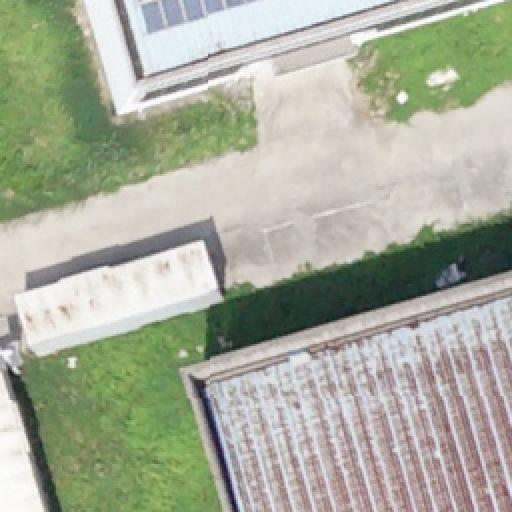solar-panel: (138, 0, 254, 32)
